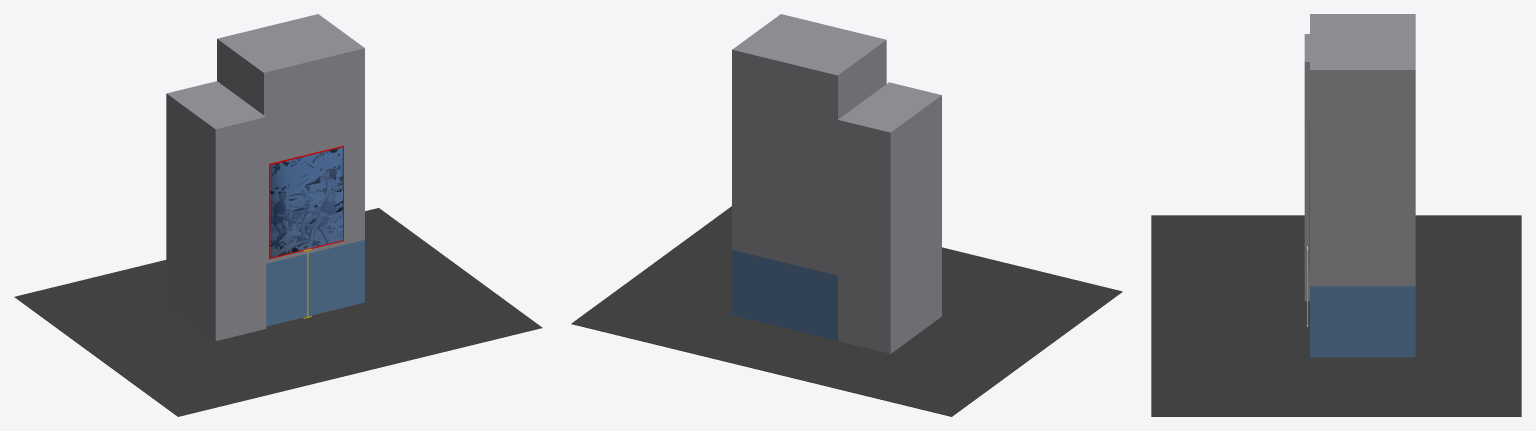
File: facade_mural.obj
The picture shows the model from 3 angles, left to right: view 1: azimuth 30°, elevation 25°; view 2: azimuth 150°, elevation 25°; view 3: azimuth 270°, elevation 25°; orthographic projection. The views are drawn at different scales.
Visible parts, largest first — view 1: Ground, Context_Left_Wing, Tower, MURAL_PANEL, Podium_L1_Lobby, Podium_L3, Podium_L2; view 2: Ground, Tower, Context_Left_Wing, Podium_L1_Lobby, Podium_L3, Podium_L2, Podium_Band_below_mural; view 3: Ground, Tower, Podium_L1_Lobby, Podium_L3, Podium_L2, Context_Left_Wing, Podium_Band_below_mural.
Boxes of the visible parts, left/top/right/bottom form: Ground: left=14, top=208, right=542, bottom=416; Context_Left_Wing: left=166, top=81, right=266, bottom=341; Tower: left=217, top=14, right=364, bottom=258; MURAL_PANEL: left=270, top=147, right=342, bottom=257; Podium_L1_Lobby: left=266, top=277, right=364, bottom=326; Podium_L3: left=266, top=240, right=364, bottom=282; Podium_L2: left=266, top=259, right=364, bottom=300; Ground: left=571, top=206, right=1122, bottom=416; Tower: left=732, top=14, right=886, bottom=270; Context_Left_Wing: left=838, top=82, right=941, bottom=353; Podium_L1_Lobby: left=732, top=288, right=837, bottom=340; Podium_L3: left=732, top=250, right=837, bottom=295; Podium_L2: left=732, top=269, right=837, bottom=314; Podium_Band_below_mural: left=732, top=244, right=837, bottom=275; Ground: left=1151, top=215, right=1521, bottom=416; Tower: left=1310, top=14, right=1415, bottom=280; Podium_L1_Lobby: left=1310, top=328, right=1415, bottom=357; Podium_L3: left=1310, top=286, right=1415, bottom=307; Podium_L2: left=1310, top=308, right=1415, bottom=328; Context_Left_Wing: left=1304, top=34, right=1309, bottom=301; Podium_Band_below_mural: left=1310, top=280, right=1415, bottom=286.
Size of the model in its own units: 90 by 60.1 by 70.
Materials: 6 (1 with a texture image).
